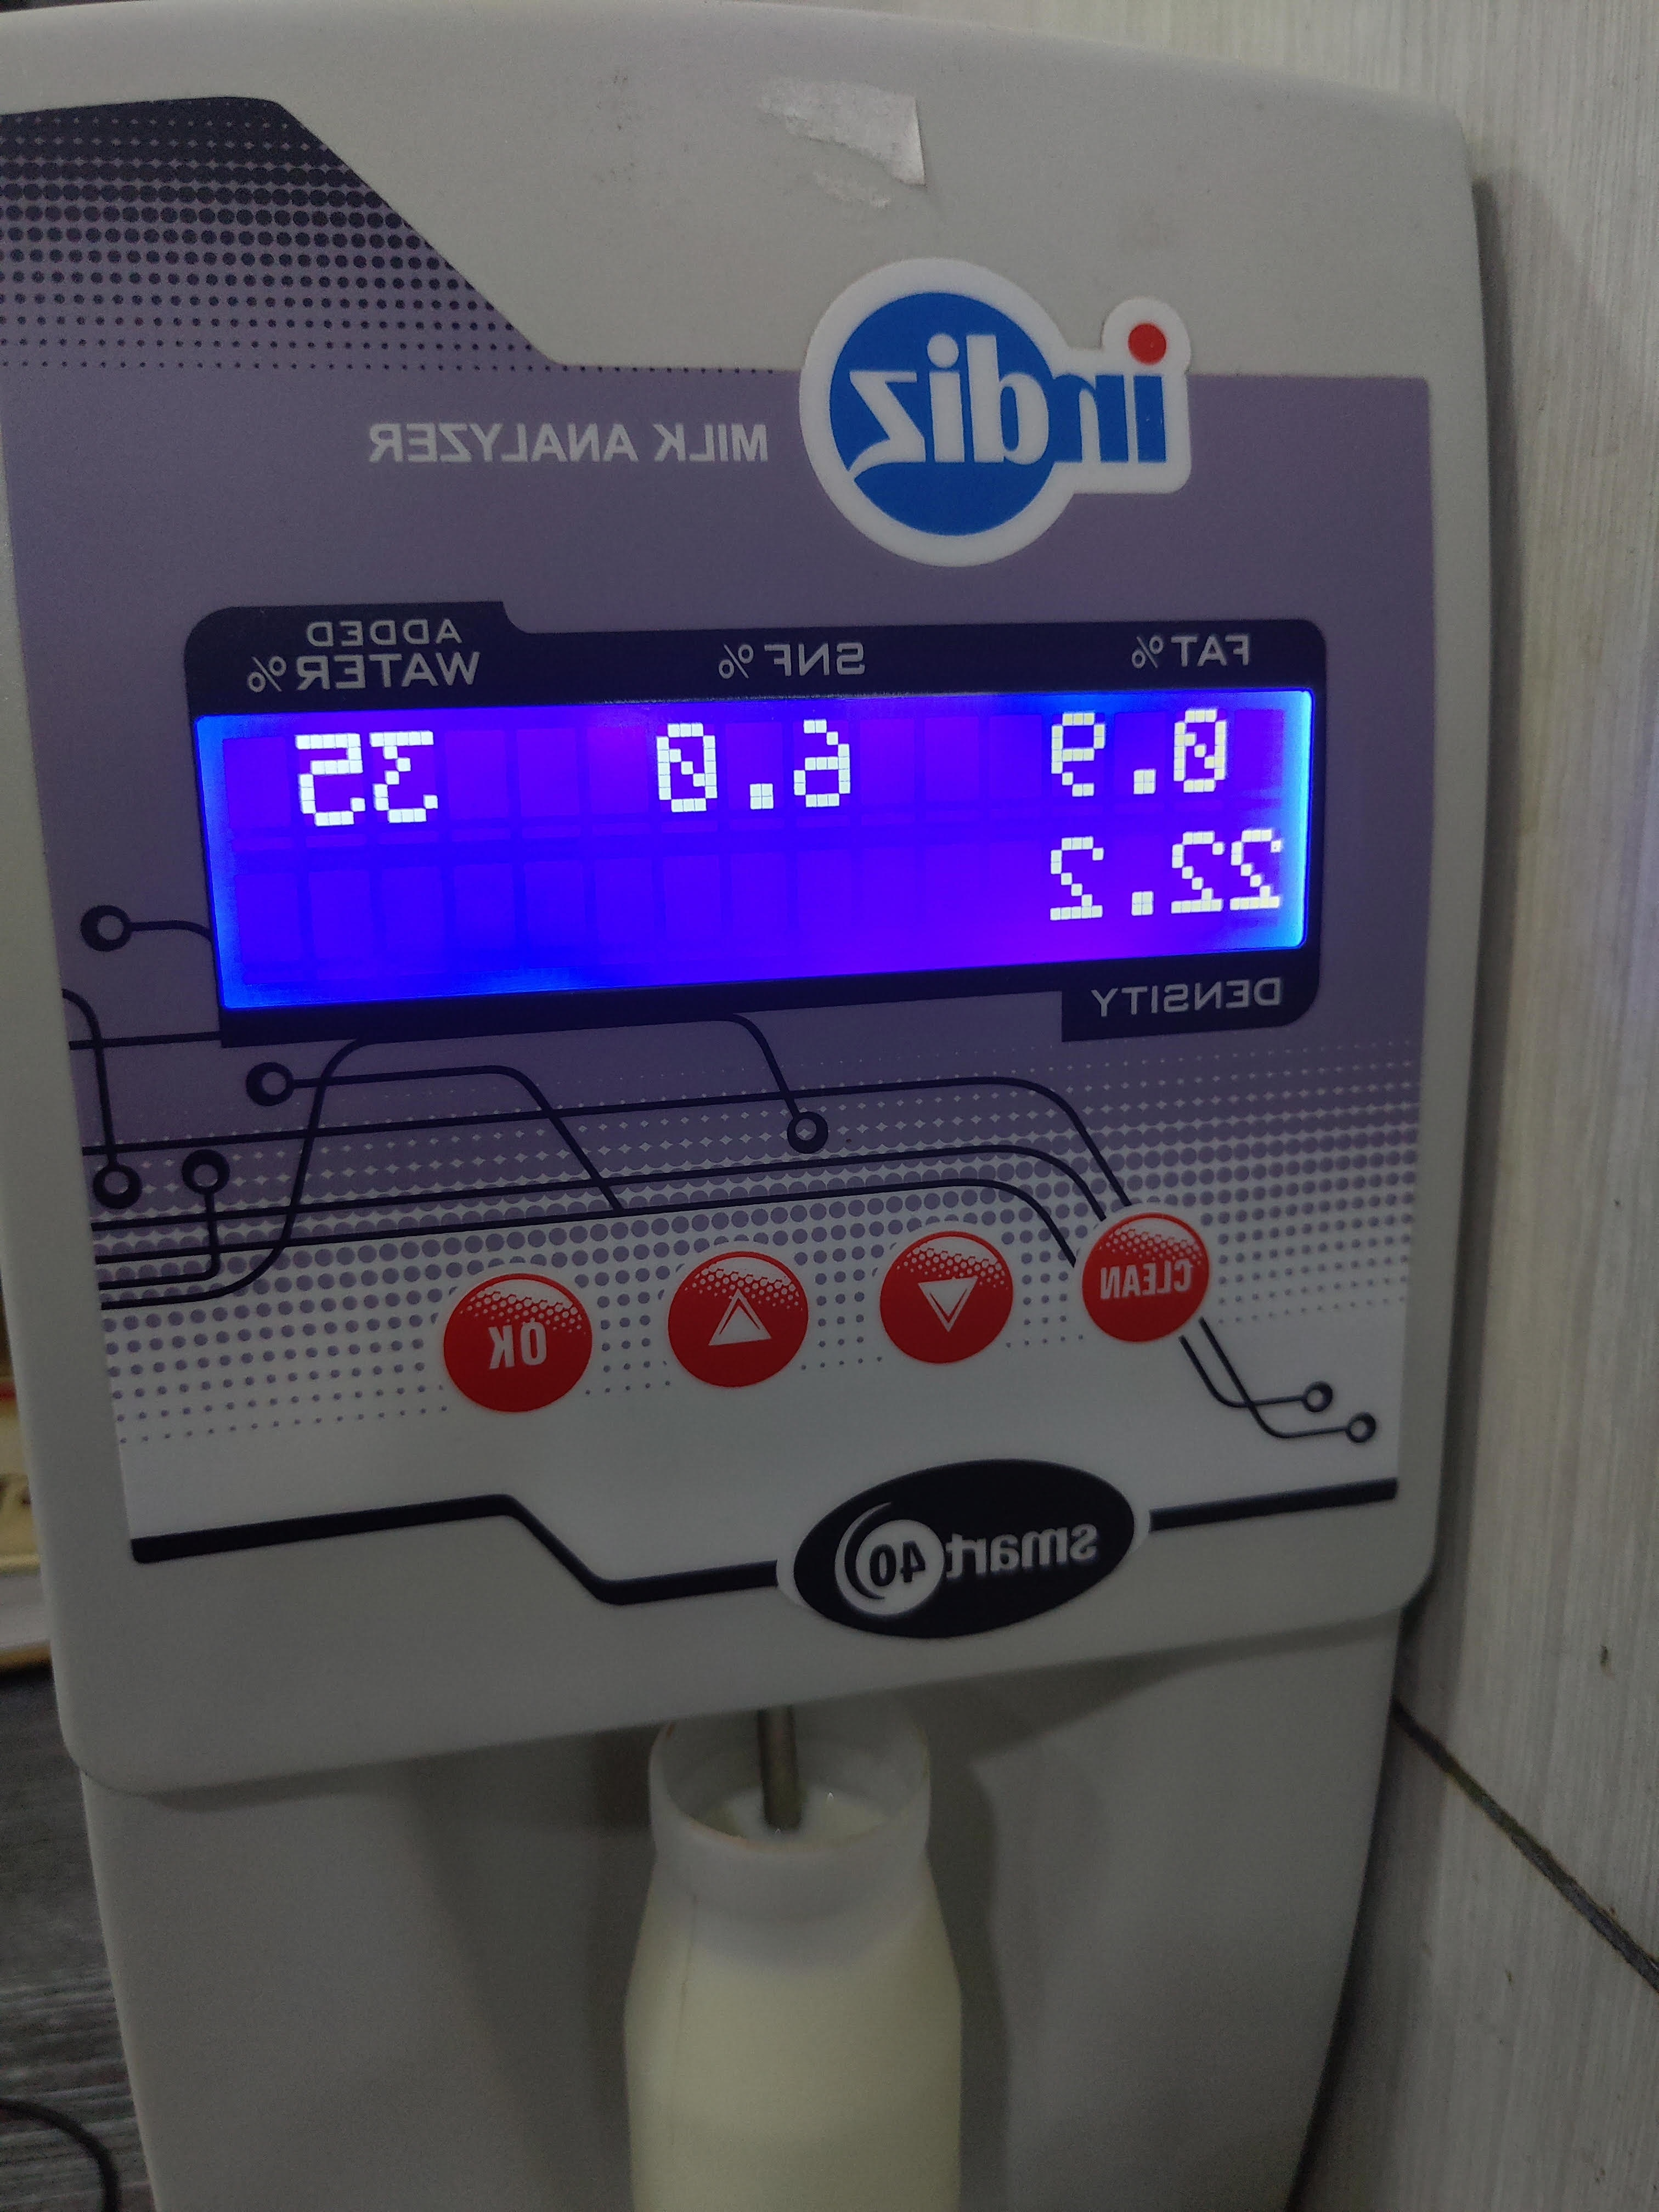lcd: (176, 691, 1356, 1017)
